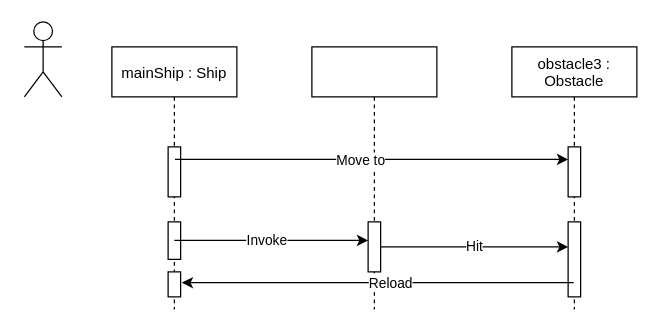
Image size: 659x331. Some labels were removed from this diagram. Each missing label, with the box of its shape:
Player: (23, 21, 62, 97)
shipShot : Shot: (311, 46, 437, 309)
